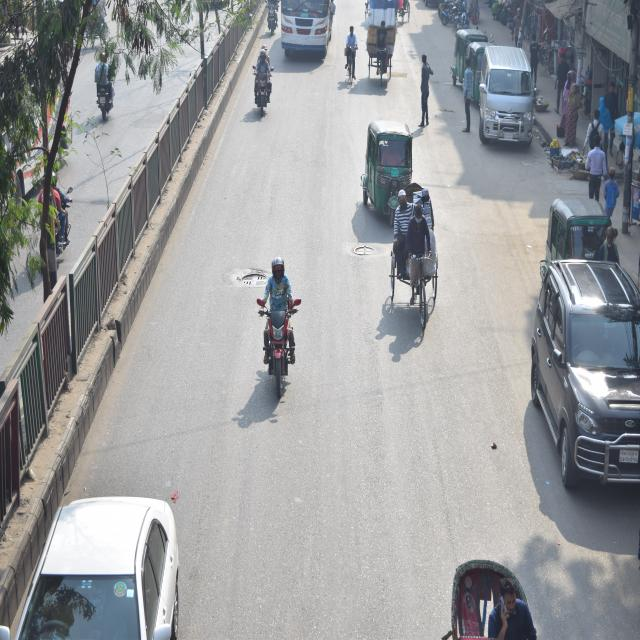bus: (280, 0, 332, 51)
car: (531, 241, 640, 504), (17, 487, 179, 640)
microbus: (478, 42, 537, 154)
motorbike: (249, 282, 307, 407), (252, 54, 274, 131), (93, 63, 116, 128)
